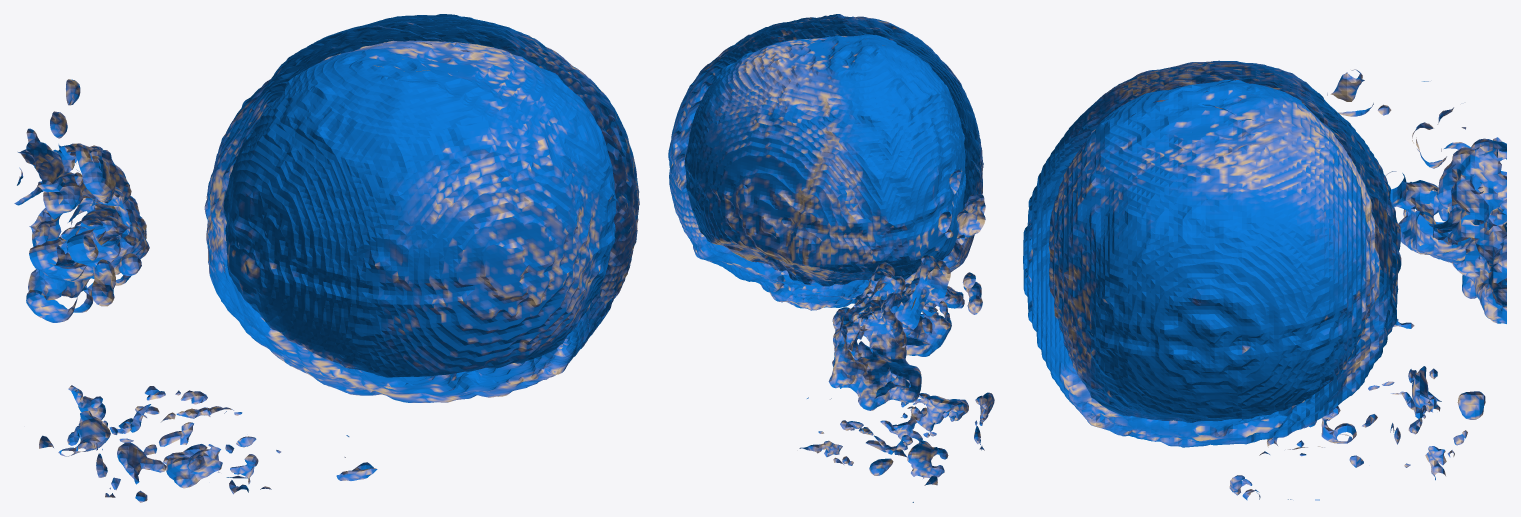
Rendered from clustering_cache_00040_cluster_57_surface.glb.
3 views of the same model, side by side, from view 1: azimuth 30°, elevation 25°; view 2: azimuth 150°, elevation 25°; view 3: azimuth 270°, elevation 25° (orthographic). The views are drawn at different scales.
Bounding box in the file's own units: 0.8509 × 0.8124 × 0.8278.
